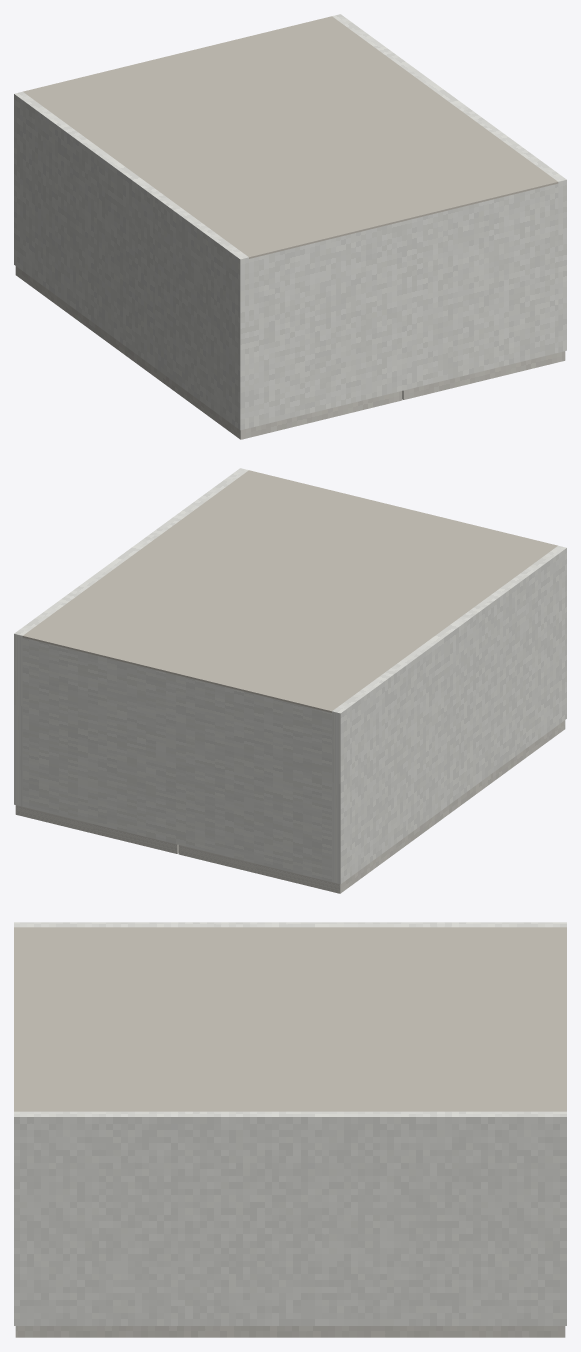
The model's file is wall_600_double.obj.
3 renders of one model, top to bottom at view 1: azimuth 30°, elevation 25°; view 2: azimuth 150°, elevation 25°; view 3: azimuth 270°, elevation 25°, orthographic. The views are drawn at different scales.
Visible parts, largest first — view 1: zadnyaya_stenka, krysha, bokovina_levaya, fasad_1, bokovina_pravaya, fasad_2; view 2: zadnyaya_stenka, dno, bokovina_levaya, fasad_1, bokovina_pravaya, fasad_2; view 3: bokovina_pravaya, zadnyaya_stenka, fasad_2, bokovina_levaya.
Boxes of the visible parts, x1,y1,x2,y2 form: zadnyaya_stenka: [23, 16, 558, 258]; krysha: [249, 183, 558, 427]; bokovina_levaya: [14, 91, 248, 430]; fasad_1: [15, 266, 402, 439]; bokovina_pravaya: [332, 14, 566, 352]; fasad_2: [402, 351, 565, 399]; zadnyaya_stenka: [22, 470, 557, 712]; dno: [22, 637, 331, 881]; bokovina_levaya: [332, 545, 566, 884]; fasad_1: [178, 720, 565, 893]; bokovina_pravaya: [14, 468, 248, 806]; fasad_2: [15, 805, 178, 853]; bokovina_pravaya: [14, 1111, 566, 1325]; zadnyaya_stenka: [14, 927, 566, 1111]; fasad_2: [15, 1326, 565, 1337]; bokovina_levaya: [14, 922, 566, 927].
Bounding box in the file's own units: 600 × 318 × 720.
